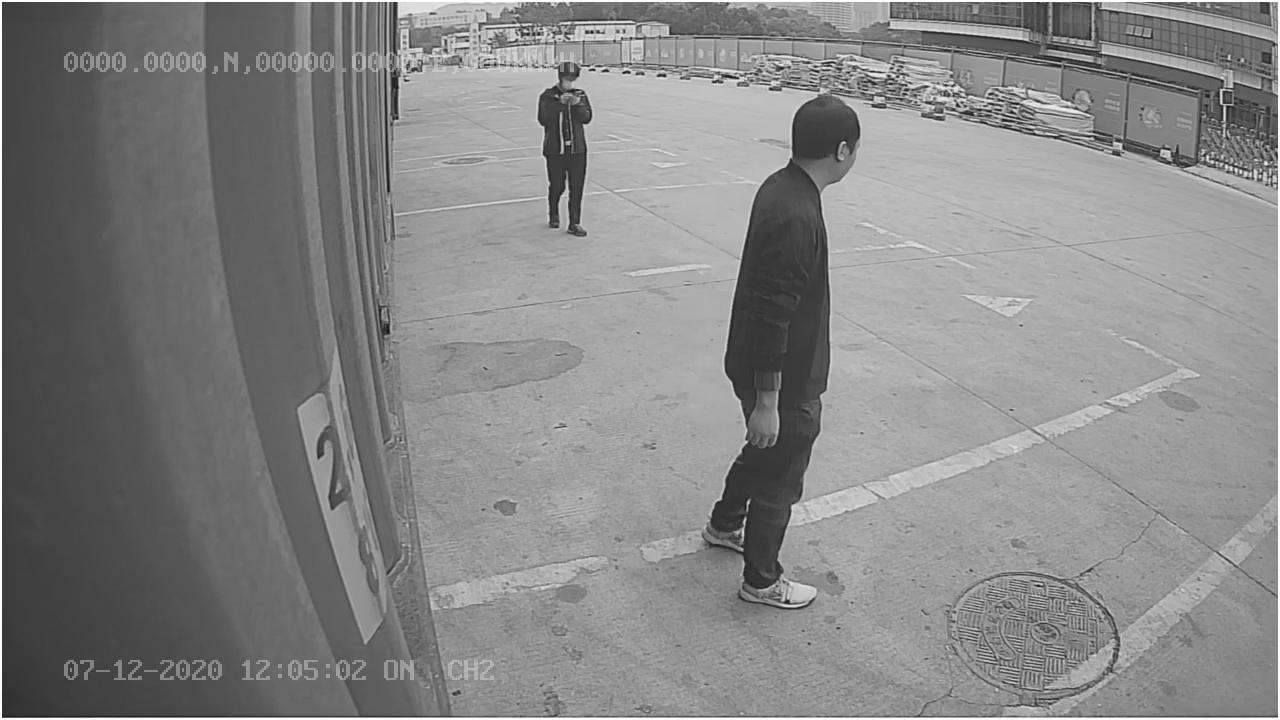person: (702, 95, 868, 611)
